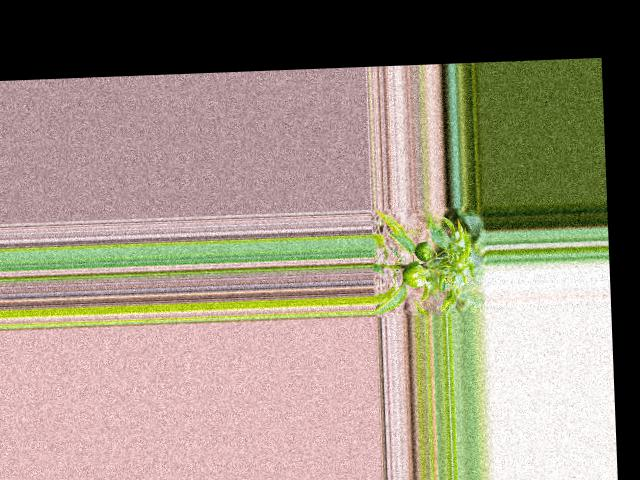bell_pepper: (413, 240, 433, 262)
